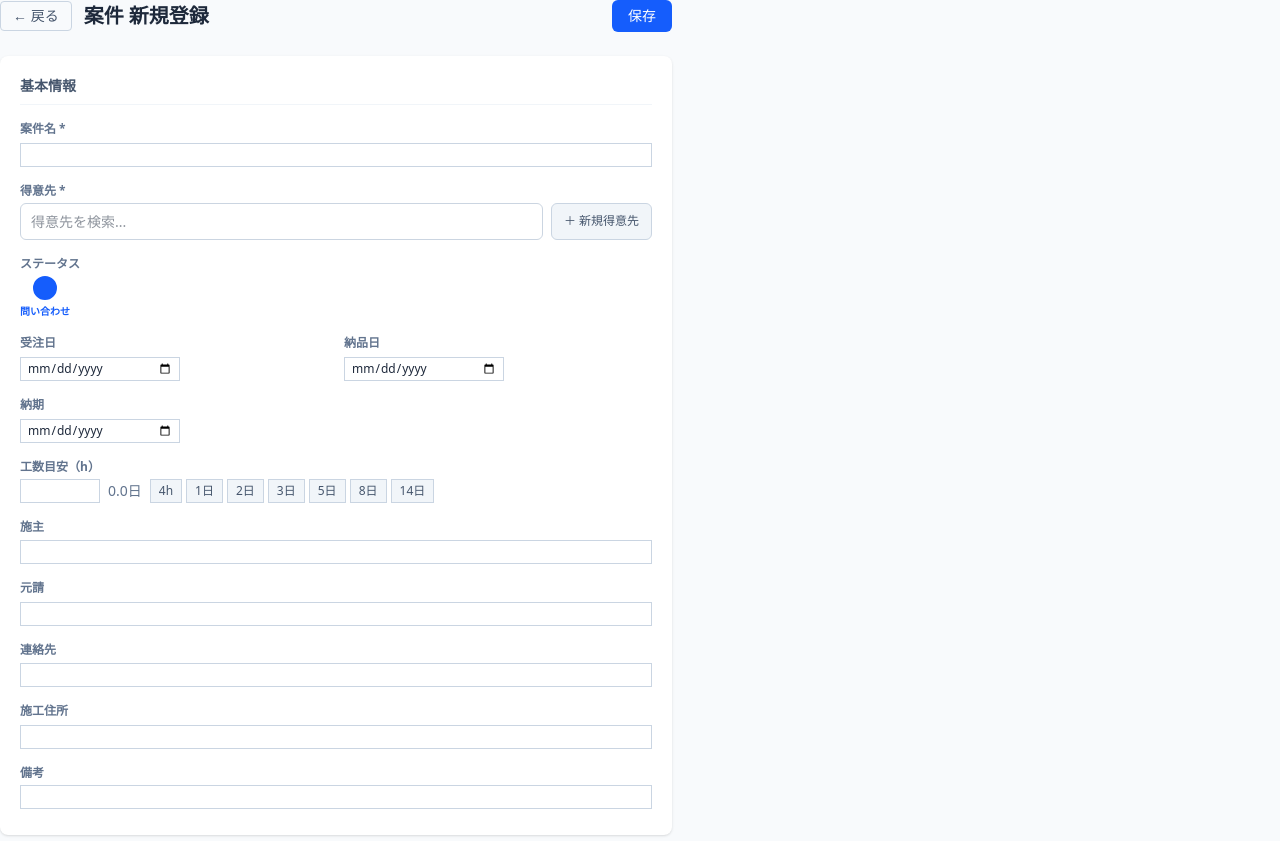
Test case: 新規案件登録の得意先即時反映 (R-069改善点2) › 新規得意先を登録すると、得意先検索の候補に即座に反映される
Expected: the field with placeholder "得意先を検索..." is shown, [20,202,543,240]
Click the button "＋ 新規得意先".
click(601, 221)  # box [551,202,652,240]
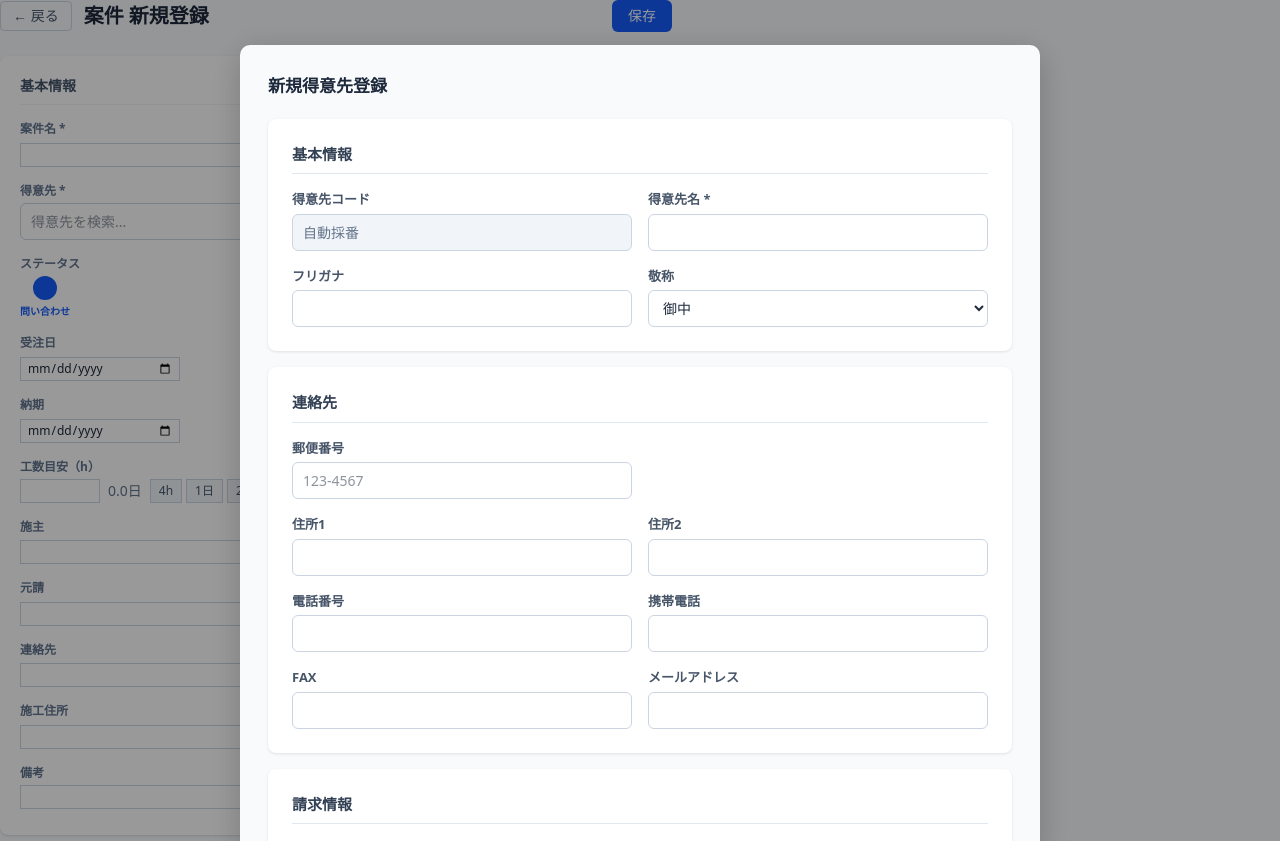
Type "新しい得意先" into the field named "name" below "得意先名 *".
click(818, 232); type("新しい得意先")  # box [648,214,988,250]
(page scrolled)
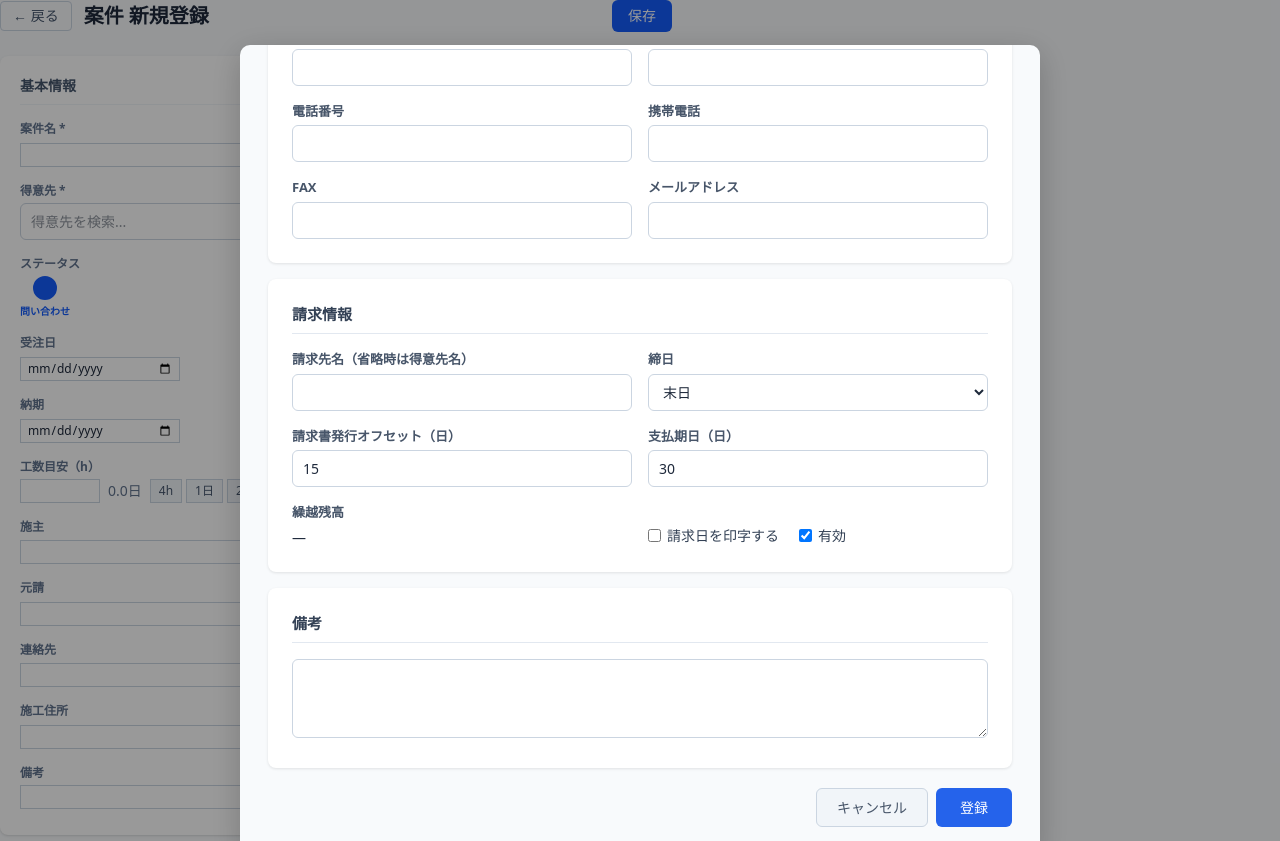
Click the button "登録".
click(974, 808)  # box [936,788,1012,827]
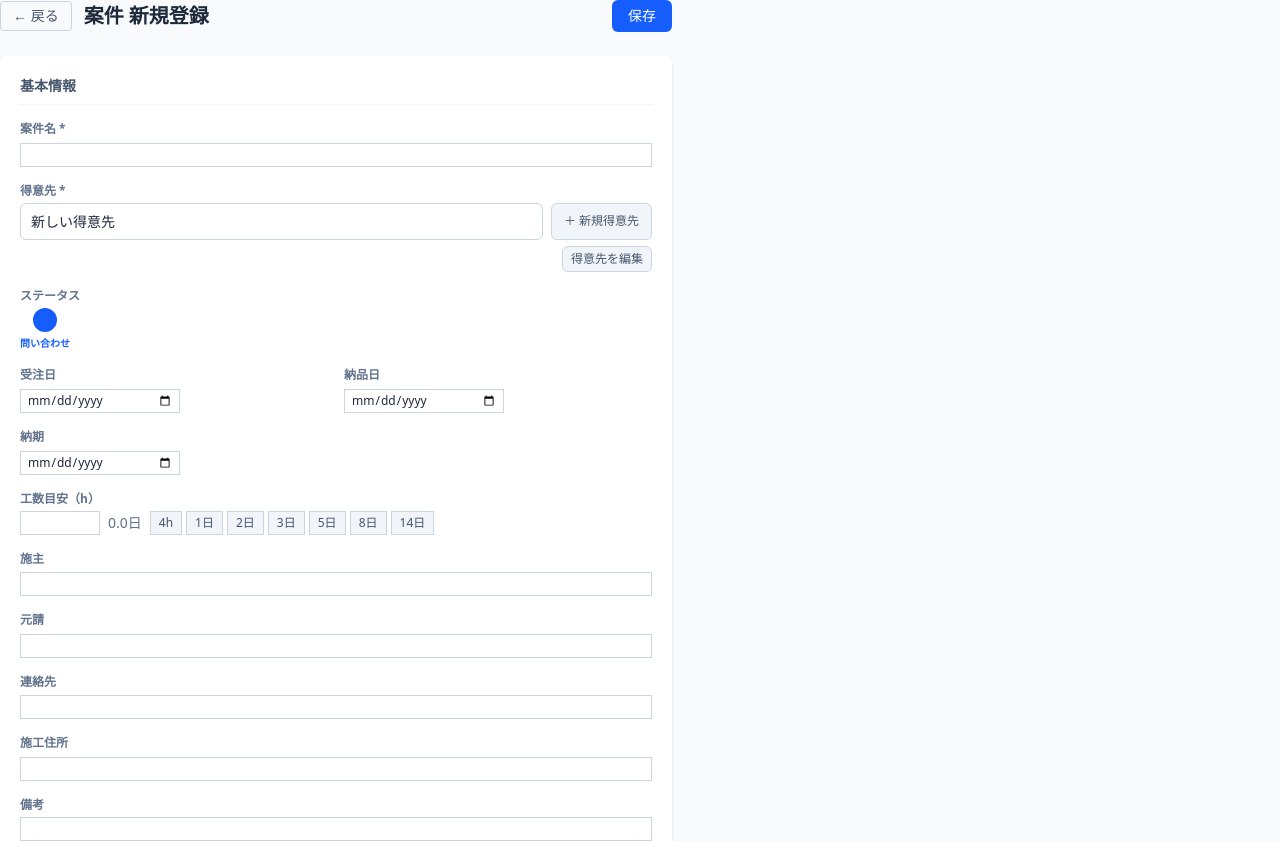
Expected: the field showing "新しい得意先" below "得意先 *" is shown, [20,202,543,240]
